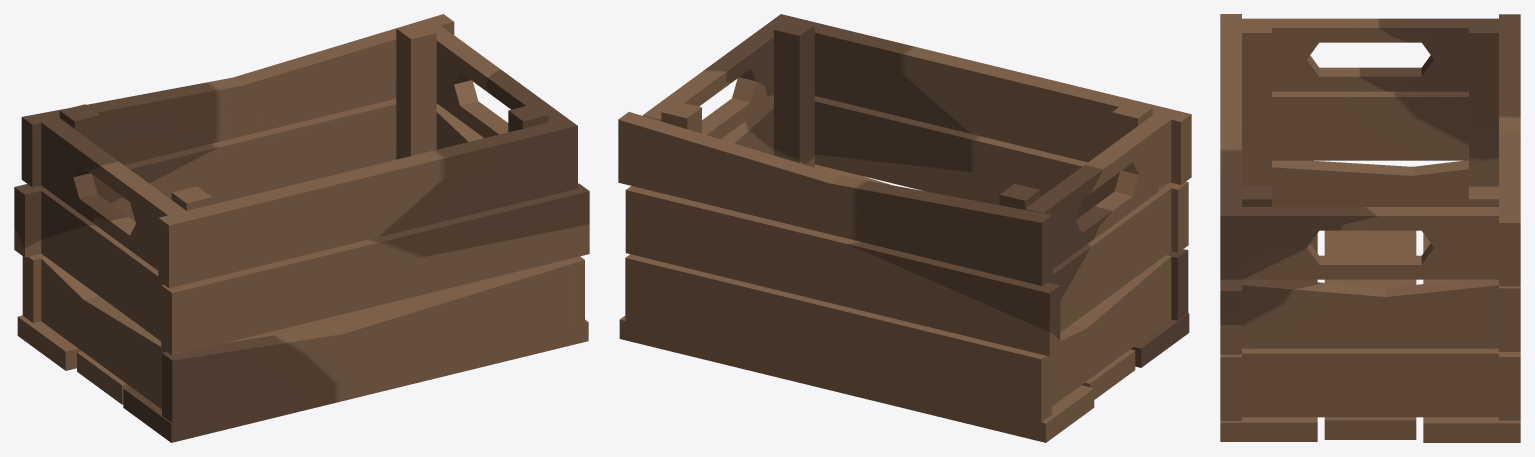
The model's file is SM_Wooden_Box_C.fbx.
3 views of the same model, side by side, from view 1: azimuth 30°, elevation 25°; view 2: azimuth 150°, elevation 25°; view 3: azimuth 270°, elevation 25° (orthographic).
Visible parts, largest first — view 1: SM_Wooden_Box_C; view 2: SM_Wooden_Box_C; view 3: SM_Wooden_Box_C.
Part boxes in pixels (x1,y1,x2,y2): SM_Wooden_Box_C: [14, 14, 589, 442]; SM_Wooden_Box_C: [618, 14, 1191, 442]; SM_Wooden_Box_C: [1220, 14, 1520, 442].
Bounding box in the file's own units: 94.67 × 47.52 × 56.59.
